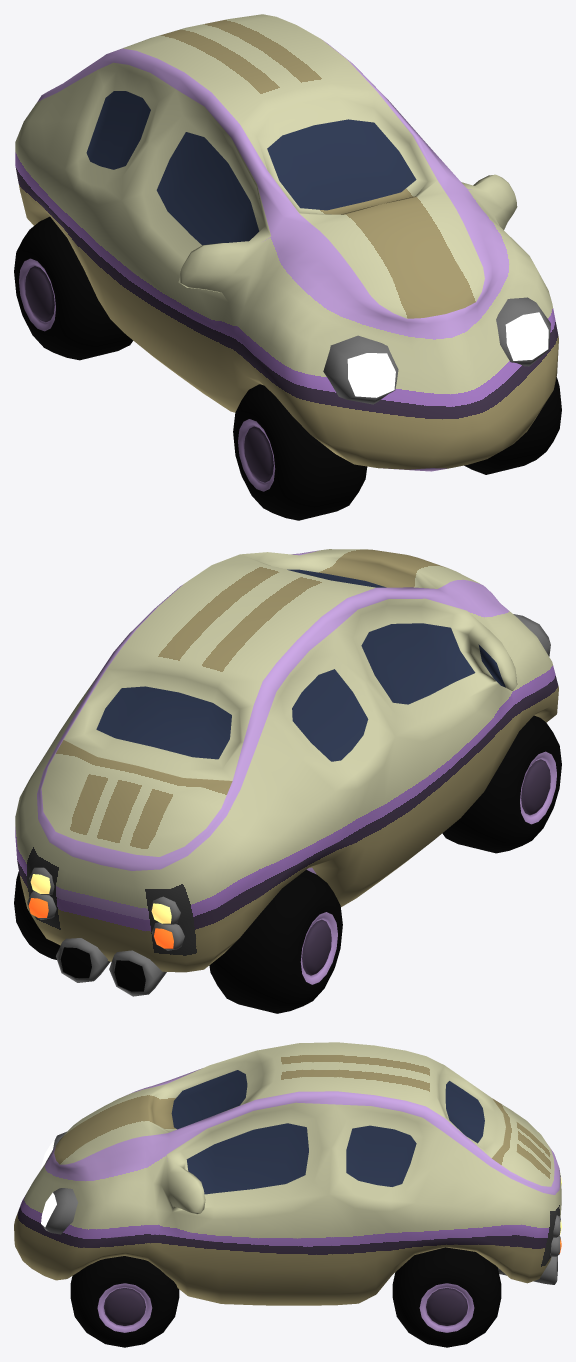
The model's file is carC.gltf.
The picture shows the model from 3 angles, top to bottom: view 1: azimuth 30°, elevation 25°; view 2: azimuth 150°, elevation 25°; view 3: azimuth 270°, elevation 25°; orthographic projection. The views are drawn at different scales.
Parts seen in each view (by area): view 1: Cube.002, Cylinder.003; view 2: Cube.002, Cylinder.003; view 3: Cube.002, Cylinder.003.
Boxes of the visible parts, x1=… form: Cube.002: x1=15, y1=14, x2=558, y2=471; Cylinder.003: x1=14, y1=216, x2=561, y2=520; Cube.002: x1=15, y1=549, x2=558, y2=996; Cylinder.003: x1=14, y1=715, x2=561, y2=1013; Cube.002: x1=14, y1=1042, x2=561, y2=1305; Cylinder.003: x1=70, y1=1247, x2=501, y2=1347.
Size of the model in its own units: 2.91 by 2.72 by 5.62.
1 material, 1 textured.
